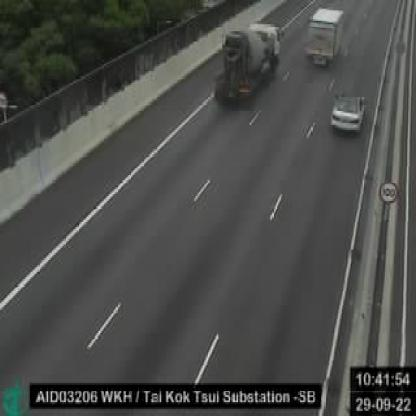Car: (299, 5, 347, 68), (326, 83, 370, 134)
Truck: (210, 14, 284, 114)
